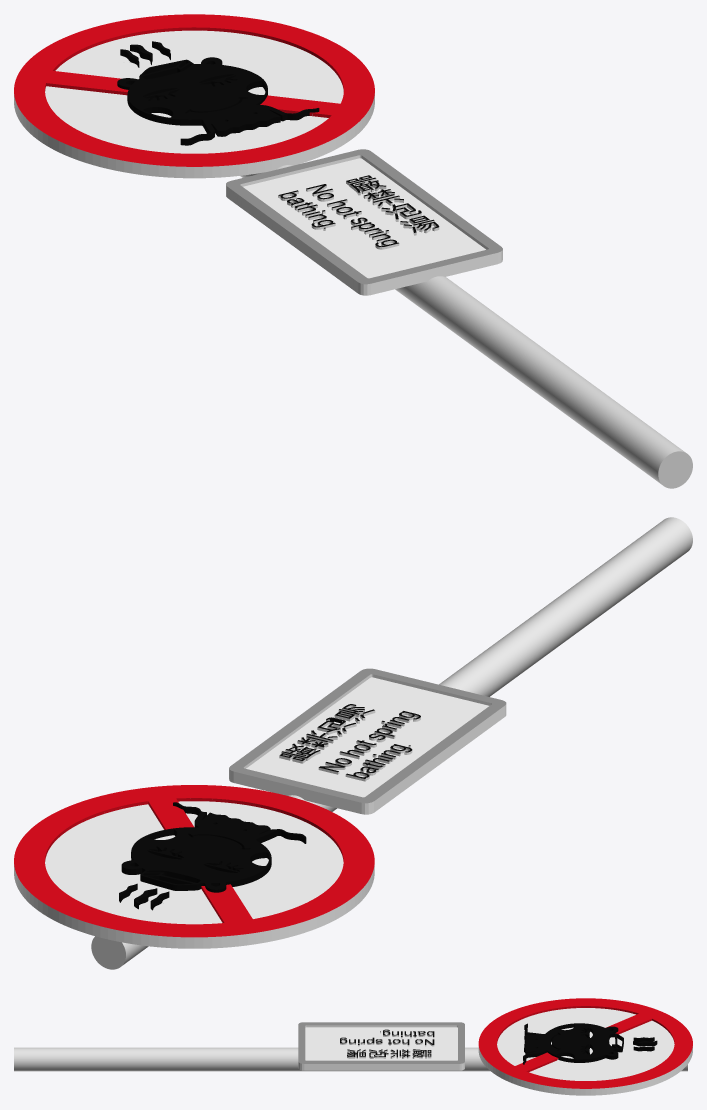
Rendered from no-hot-spring.glb.
3 renders of one model, top to bottom at view 1: azimuth 30°, elevation 25°; view 2: azimuth 150°, elevation 25°; view 3: azimuth 270°, elevation 25°, orthographic. The views are drawn at different scales.
Parts seen in each view (by area): view 1: 嚴禁泡湯（上色用）.001, watch tower final ver2, 柱子, 嚴禁泡湯（上色用）.005; view 2: 嚴禁泡湯（上色用）.001, watch tower final ver2, 柱子, 嚴禁泡湯（上色用）.005; view 3: 嚴禁泡湯（上色用）.001, watch tower final ver2, 柱子, 嚴禁泡湯（上色用）.005.
Part boxes in pixels (x1,y1,x2,y2): 嚴禁泡湯（上色用）.001: [14, 14, 374, 178]; watch tower final ver2: [226, 149, 502, 295]; 柱子: [240, 165, 692, 488]; 嚴禁泡湯（上色用）.005: [117, 41, 319, 145]; 嚴禁泡湯（上色用）.001: [14, 785, 374, 948]; watch tower final ver2: [229, 668, 506, 814]; 柱子: [91, 517, 692, 969]; 嚴禁泡湯（上色用）.005: [119, 802, 306, 910]; 嚴禁泡湯（上色用）.001: [478, 998, 692, 1095]; watch tower final ver2: [298, 1022, 464, 1070]; 柱子: [14, 1047, 687, 1071]; 嚴禁泡湯（上色用）.005: [523, 1023, 657, 1064].
Size of the model in its own units: 315 by 46.12 by 997.
